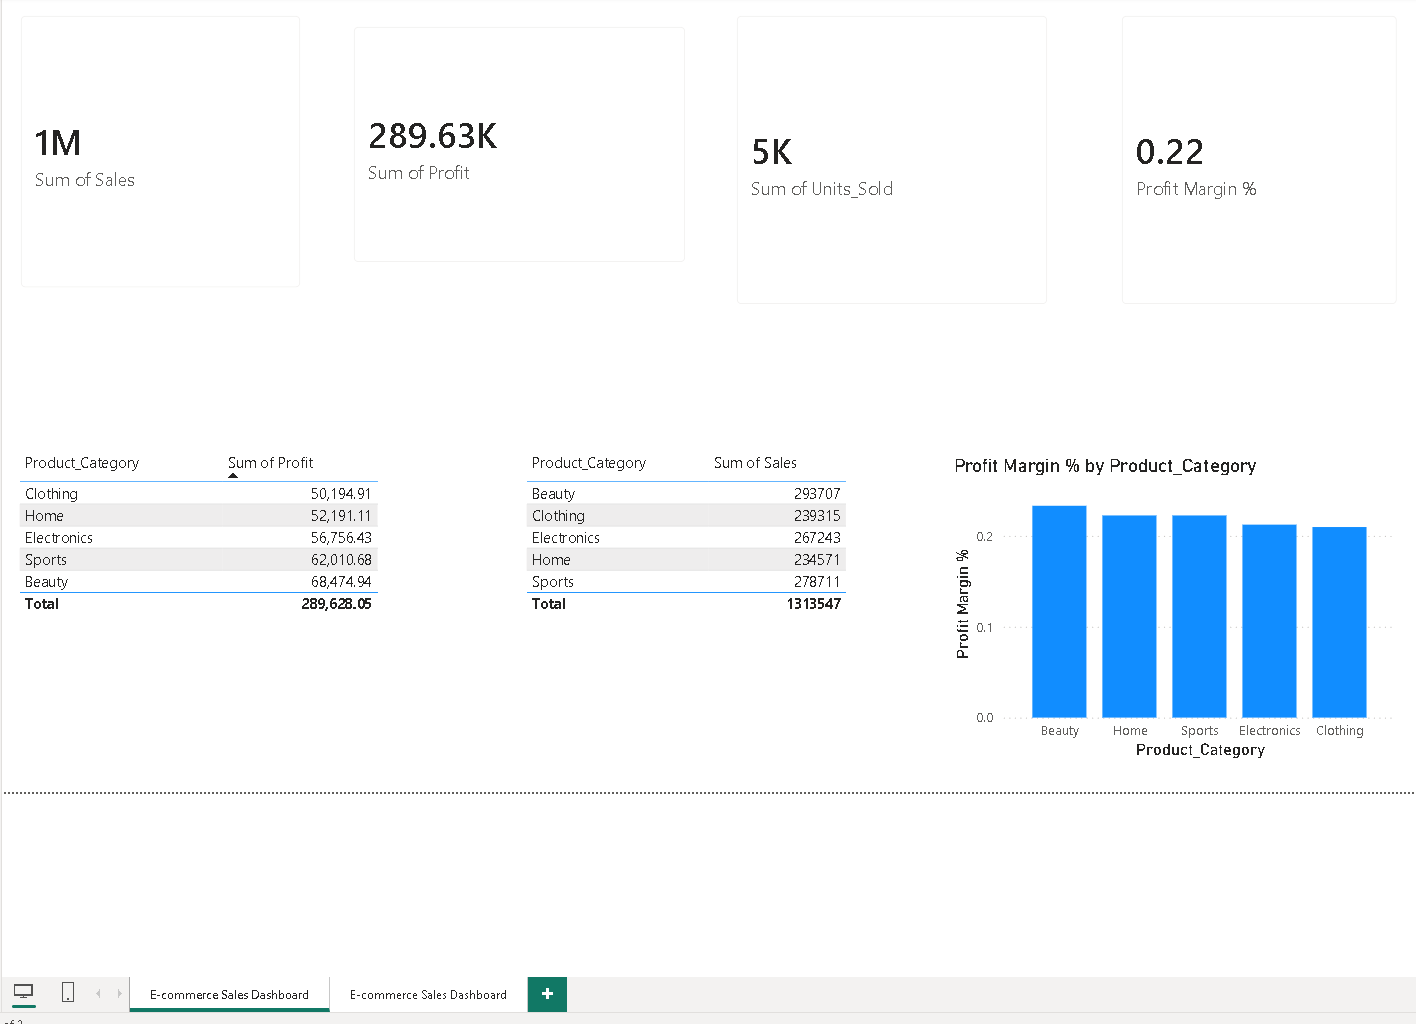

What the dashboard file says about the page in this screenshot:
{"tool":"powerbi","page":{"name":"E-commerce Sales Dashboard","canvas":[1280,720],"ordinal":0},"visuals":[{"type":"cardVisual","fields":{"Data":["Ecommerce_Sales_Data_With_Customers.Profit Margin %"]},"box":[996.7,0,283.3,295.1],"z":0},{"type":"cardVisual","fields":{"Data":["Sum(Ecommerce_Sales_Data_With_Customers.Sales)"]},"box":[0,0,287.9,280.6],"z":1000},{"type":"cardVisual","fields":{"Data":["Sum(Ecommerce_Sales_Data_With_Customers.Profit)"]},"box":[301.4,10,334.9,247.1],"z":2000},{"type":"cardVisual","fields":{"Data":["Sum(Ecommerce_Sales_Data_With_Customers.Units_Sold)"]},"box":[648.1,0,315.9,295.1],"z":3000},{"type":"tableEx","fields":{"Values":["Ecommerce_Sales_Data_With_Customers.Product_Category","Sum(Ecommerce_Sales_Data_With_Customers.Sales)"]},"box":[468.8,406.7,310.7,288.1],"z":4000},{"type":"tableEx","fields":{"Values":["Ecommerce_Sales_Data_With_Customers.Product_Category","Sum(Ecommerce_Sales_Data_With_Customers.Profit)"]},"box":[10.2,406.7,345.7,305],"z":5000},{"type":"columnChart","fields":{"Category":["Ecommerce_Sales_Data_With_Customers.Product_Category"],"Y":["Ecommerce_Sales_Data_With_Customers.Profit Margin %"]},"box":[856.4,413.7,411,280.6],"z":6000}]}

Visuals, with their boxes on the page's 1280x720 design canvas (x1, y1, x2, y2). These are canvas units, not pixel positions in the 1416x1024 screenshot, which may show the page scaled, cropped or inside an application window:
cardVisual - Ecommerce_Sales_Data_With_Customers.Profit Margin %: <bbox>997, 0, 1280, 295</bbox>
cardVisual - Sum(Ecommerce_Sales_Data_With_Customers.Sales): <bbox>0, 0, 288, 281</bbox>
cardVisual - Sum(Ecommerce_Sales_Data_With_Customers.Profit): <bbox>301, 10, 636, 257</bbox>
cardVisual - Sum(Ecommerce_Sales_Data_With_Customers.Units_Sold): <bbox>648, 0, 964, 295</bbox>
tableEx - Ecommerce_Sales_Data_With_Customers.Product_Category x Sum(Ecommerce_Sales_Data_With_Customers.Sales): <bbox>469, 407, 780, 695</bbox>
tableEx - Ecommerce_Sales_Data_With_Customers.Product_Category x Sum(Ecommerce_Sales_Data_With_Customers.Profit): <bbox>10, 407, 356, 712</bbox>
columnChart - Ecommerce_Sales_Data_With_Customers.Product_Category x Ecommerce_Sales_Data_With_Customers.Profit Margin %: <bbox>856, 414, 1267, 694</bbox>
